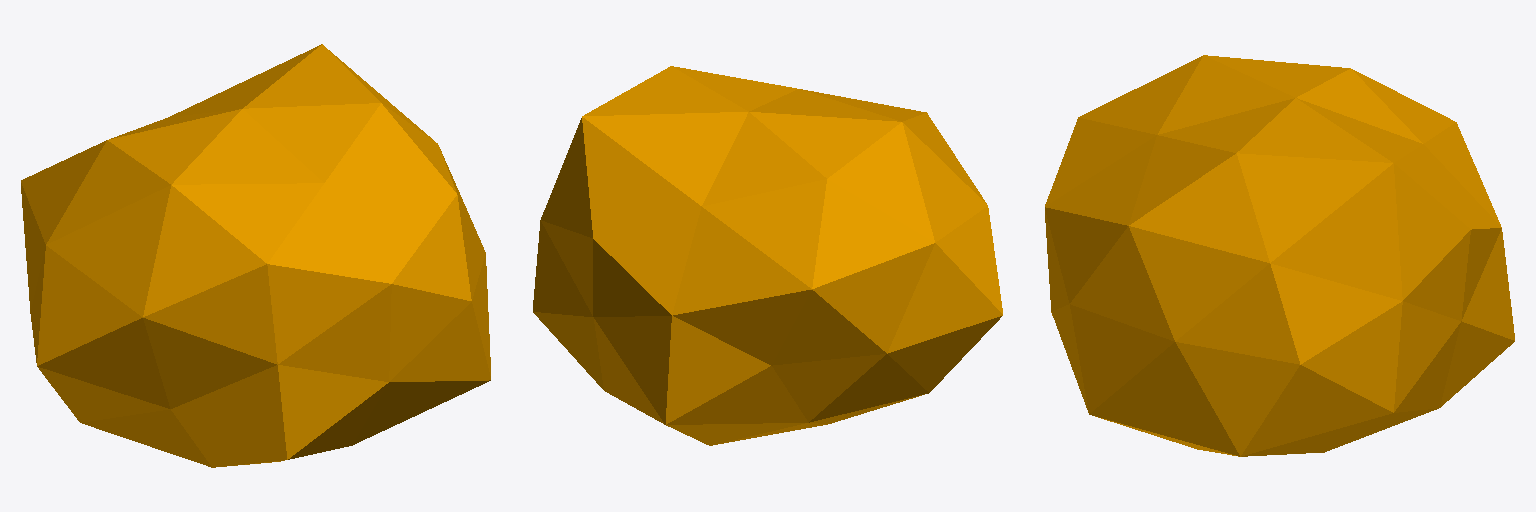
The robot description file, URDF, robot "i251":
<?xml version="1.0"?>
<robot name="i251">
  <link name="link">
    <contact>
      <lateral_friction value="0.6"/>
    </contact>
    <inertial>
      <mass value = "1.1893058036833564"/>
      <inertia ixx="0.0009982473431823355" ixy="1.0799670077492329e-19" ixz="-1.8224443255768306e-19" iyy="0.0011206575486727751" iyz="2.2049326408213506e-19" izz="0.001315629704806965" />
    </inertial>
    <visual name="visual">
      <geometry>
        <mesh filename="i251.obj"/>
      </geometry>
    </visual>
    <collision name="collision">
      <geometry>
        <mesh filename="i251.obj"/>
      </geometry>
    </collision>
  </link>
</robot>

--- Facts derived from the render (not from the file) ---
3 views of the same robot in one strip: view 1: azimuth 30°, elevation 25°; view 2: azimuth 150°, elevation 25°; view 3: azimuth 270°, elevation 25° (orthographic).
Robot: i251 — 1 links, 0 joints (none); root link link; default pose: every joint at zero.
Links seen in each view (by area): view 1: link; view 2: link; view 3: link.
Link boxes in pixels (<box>): link: <box>21,44,490,467</box>; link: <box>533,66,1002,445</box>; link: <box>1045,55,1514,456</box>.
Bounding box of the posed robot: 0.1173 × 0.1034 × 0.084 m (x, y, z).
1 mesh visuals loaded from 1 distinct referenced files (1 OBJ).
